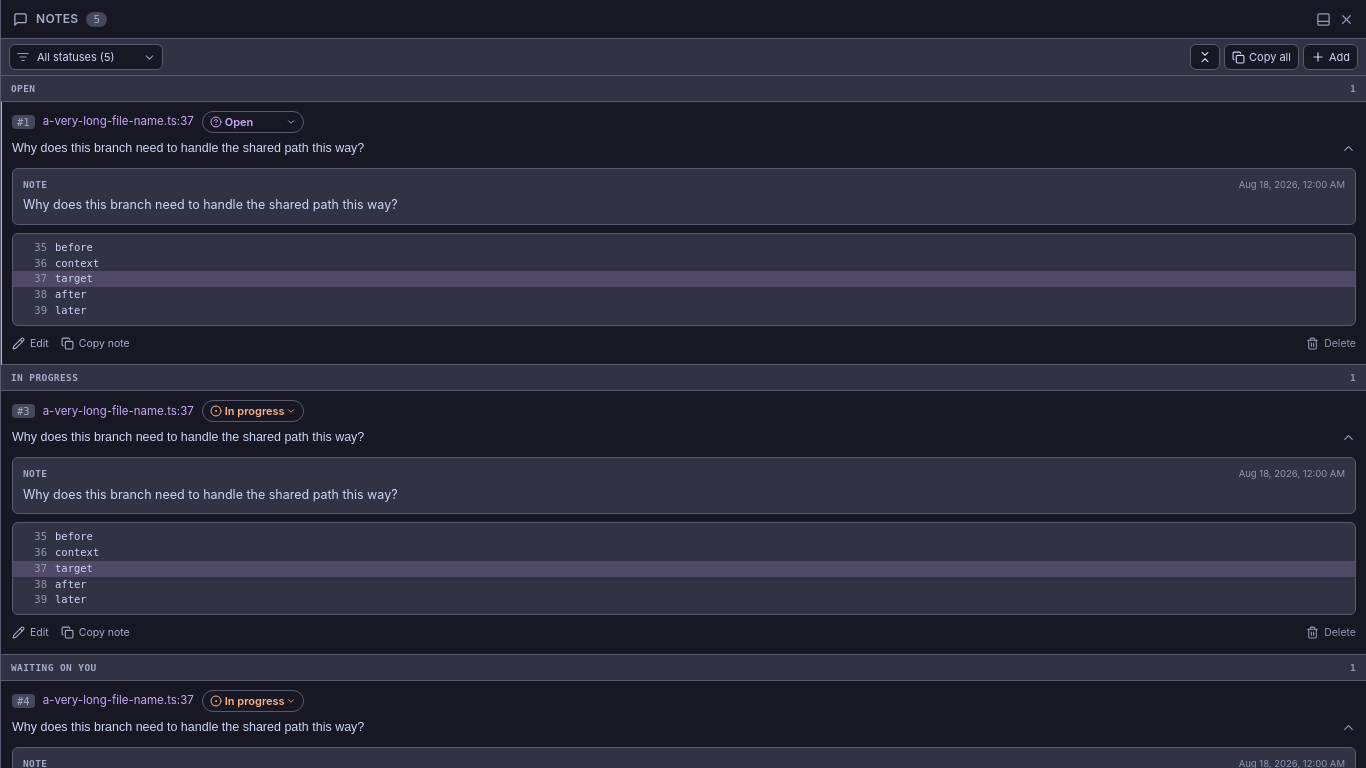
Test: NotesDrawer › filters note groups by lifecycle status while keeping both in-progress groups
Step 1. Select "In progress (2)" in the dropdown named "Filter notes by status" → (86, 57), box [9, 44, 163, 70]
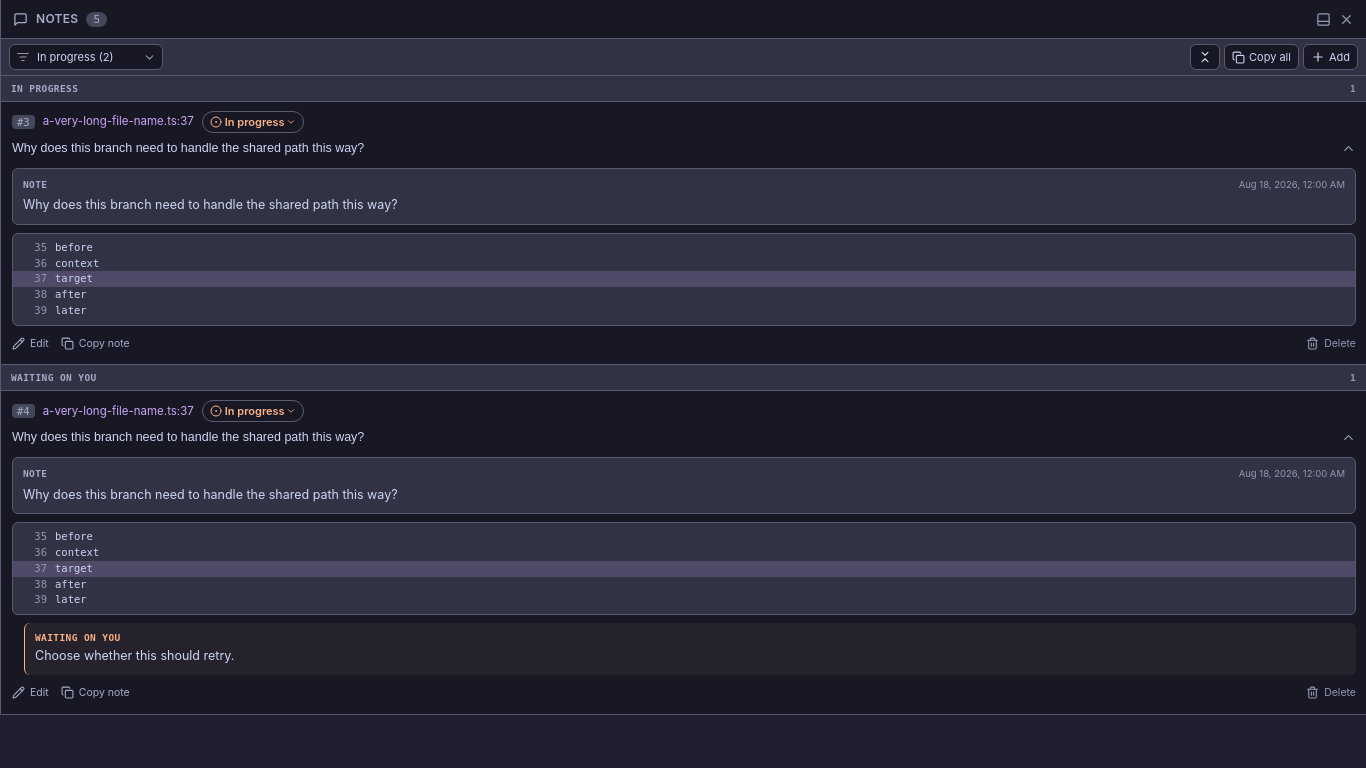
expect the elements with class "group-heading" read "In progress 1", "Waiting on you 1", in this order: met, box [1, 76, 1365, 102]; [1, 365, 1365, 391]
Step 2. Select "Resolved (1)" in the dropdown named "Filter notes by status" → (86, 57), box [9, 44, 163, 70]
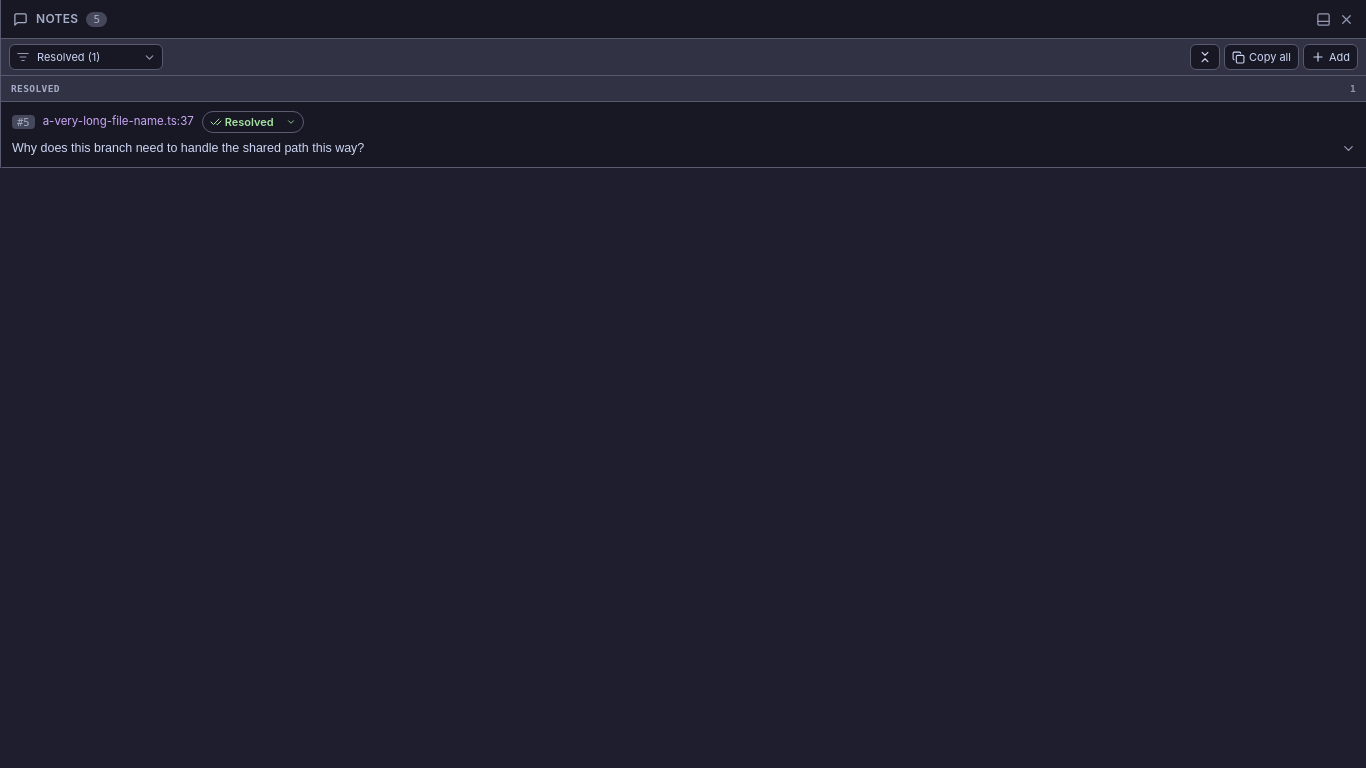
expect the list item with class "group-heading" reads "Resolved 1": met, box [1, 76, 1365, 102]
